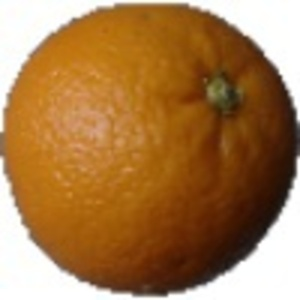laranja: (4, 3, 299, 298)
